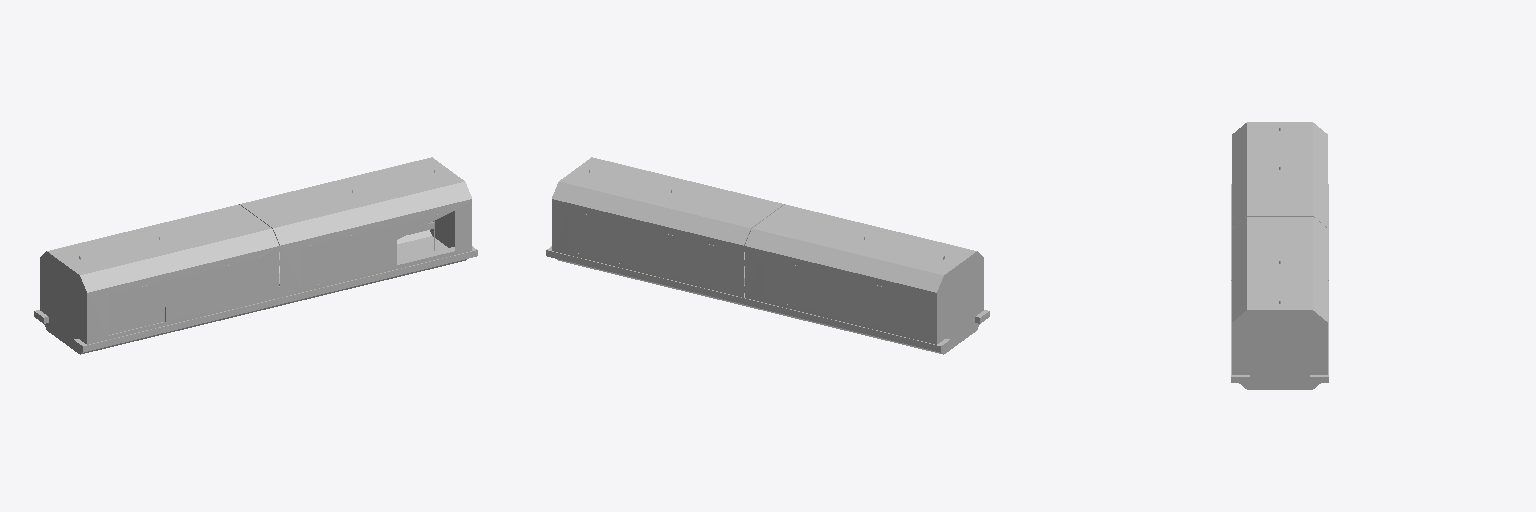
The model's file is metro3.obj.
The picture shows the model from 3 angles: view 1: azimuth 30°, elevation 25°; view 2: azimuth 150°, elevation 25°; view 3: azimuth 270°, elevation 25°; orthographic projection.
Visible parts, largest first — view 1: Cube.002_Cube.006, Cube_Cube.001, Cube.001_Cube.004, Cube.003_Cube.007; view 2: Cube.002_Cube.006, Cube_Cube.001, Cube.003_Cube.007, Cube.001_Cube.004; view 3: Cube_Cube.001, Cube.002_Cube.006.
Part boxes in pixels (x1,y1,x2,y2): Cube.002_Cube.006: (40,204,278,354); Cube_Cube.001: (239,157,471,307); Cube.001_Cube.004: (279,222,477,303); Cube.003_Cube.007: (34,298,279,352); Cube.002_Cube.006: (745,204,983,354); Cube_Cube.001: (552,157,784,307); Cube.003_Cube.007: (744,298,989,352); Cube.001_Cube.004: (546,246,744,303); Cube_Cube.001: (1232,217,1327,389); Cube.002_Cube.006: (1232,122,1327,227).
Size of the model in its own units: 11.45 by 2.36 by 2.44.